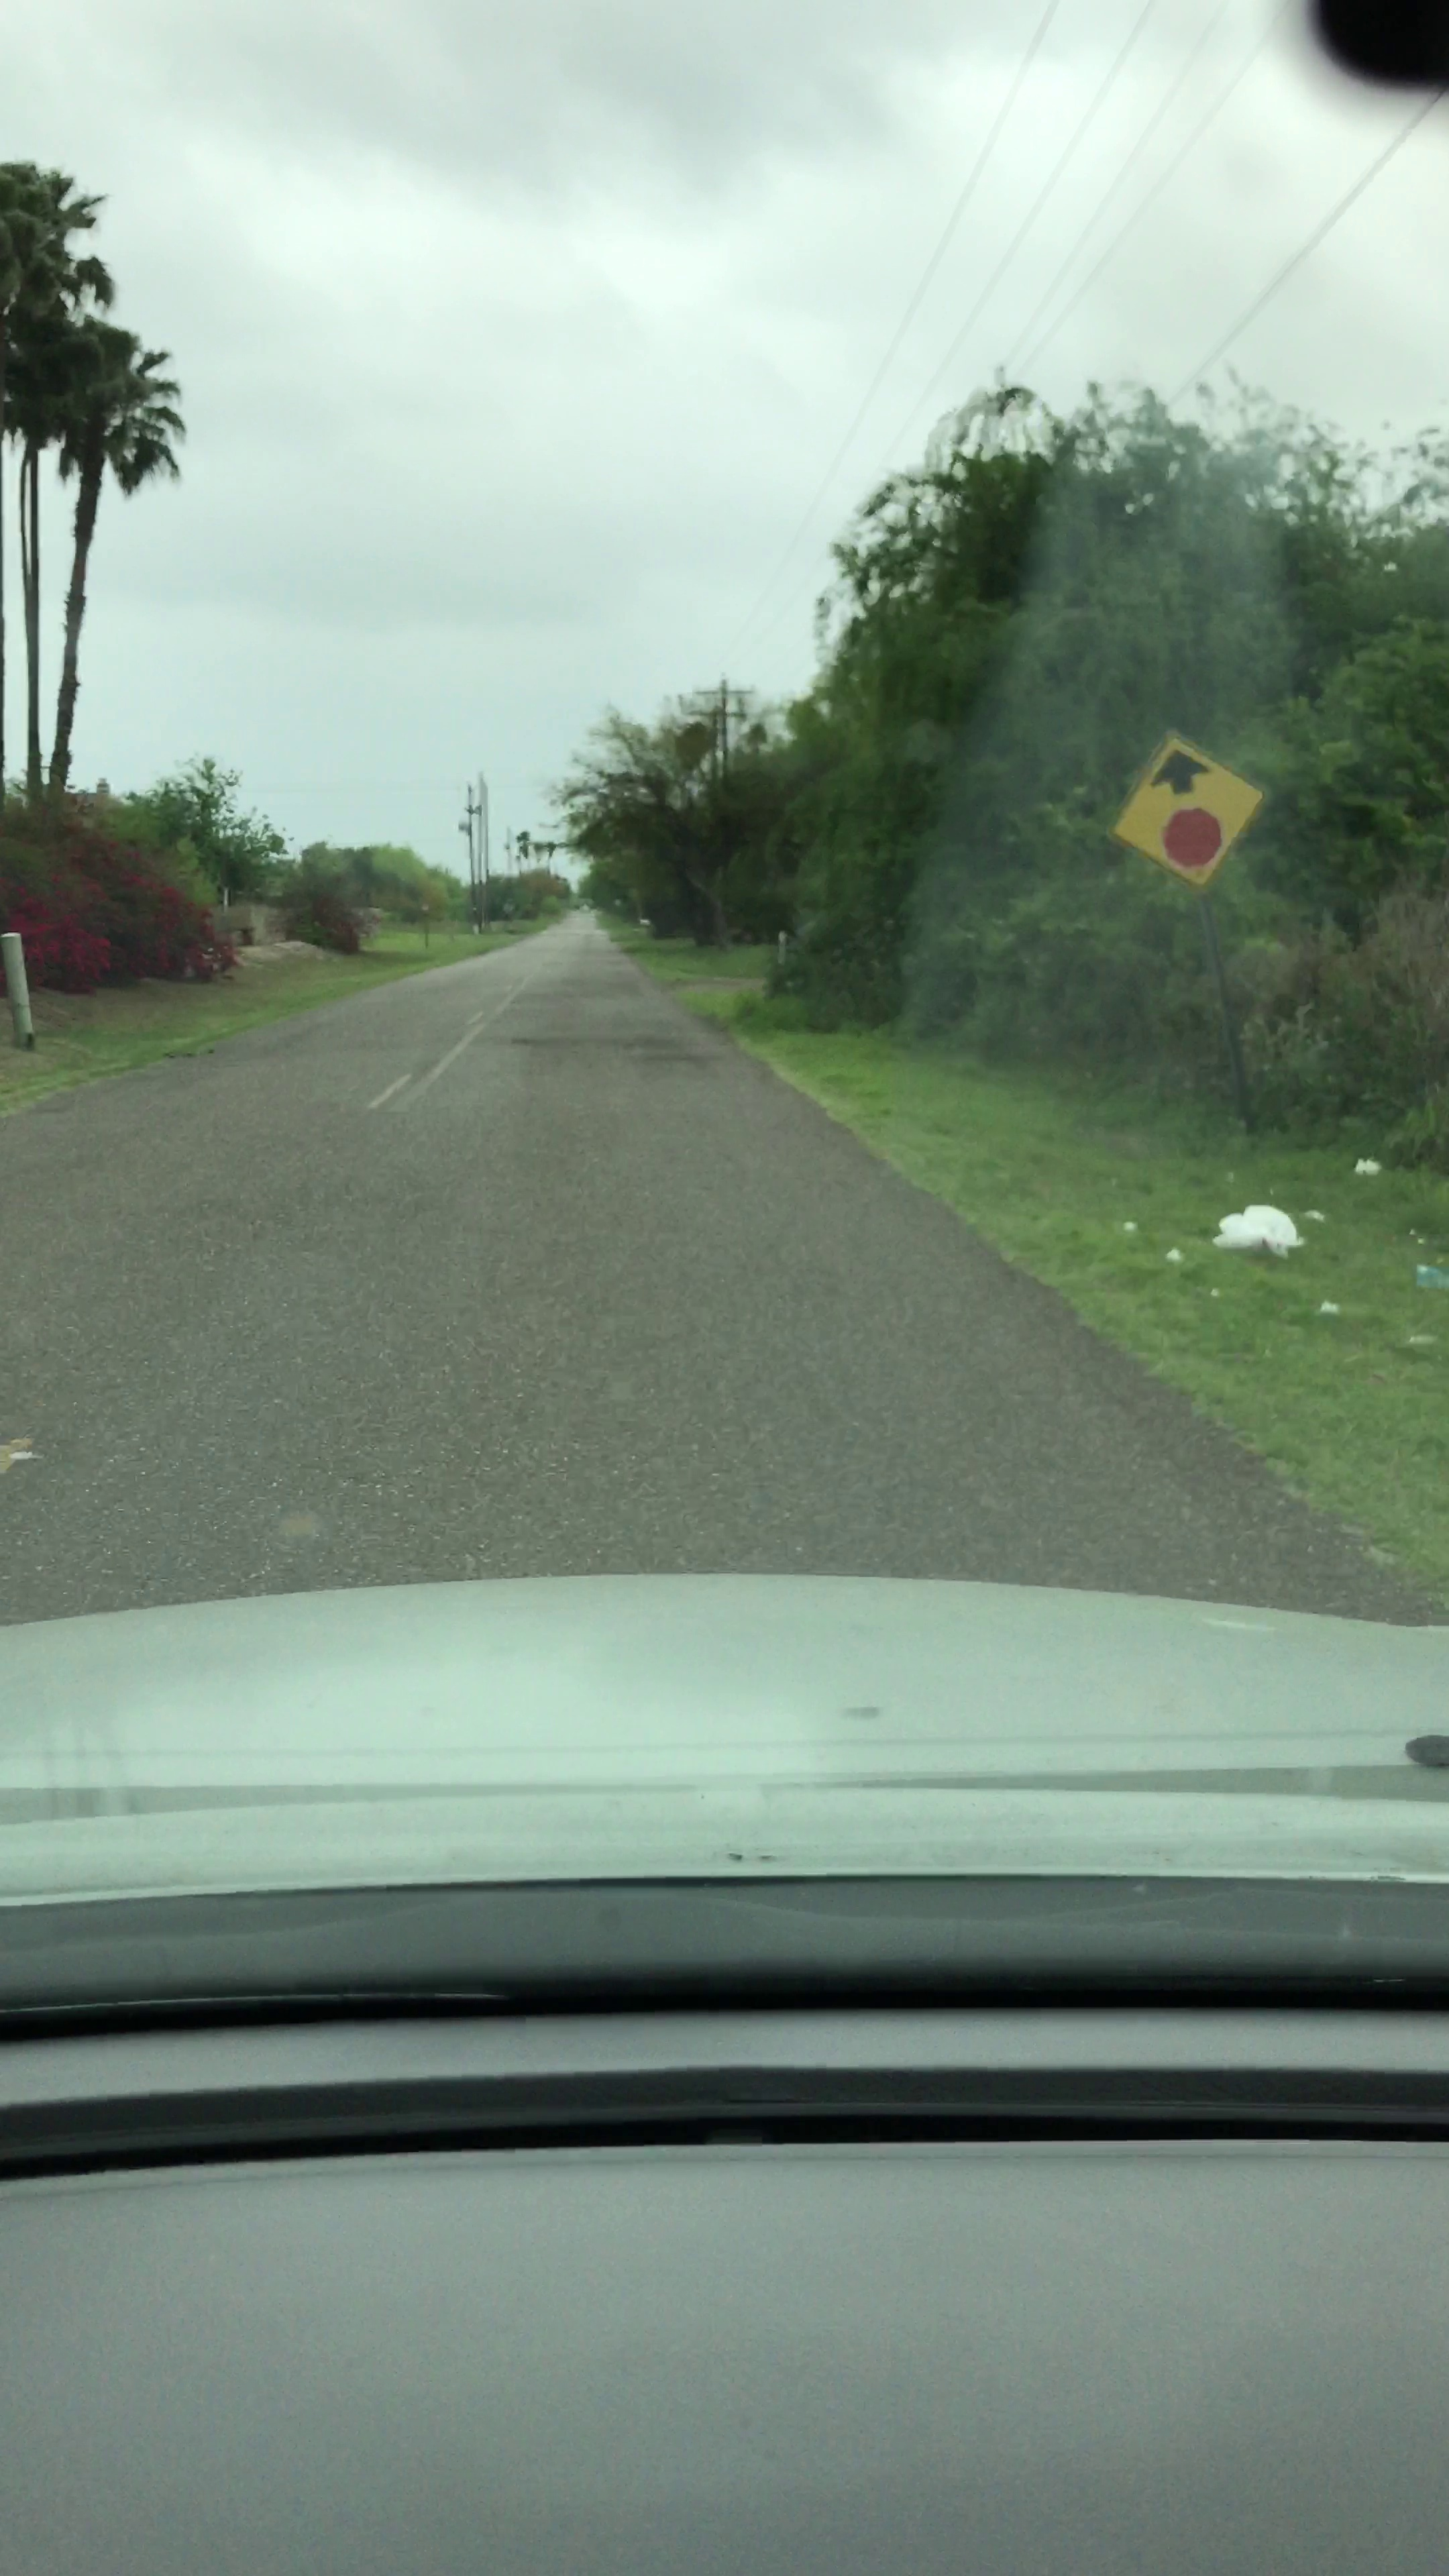blurredLine: (364, 1014, 490, 1122)
